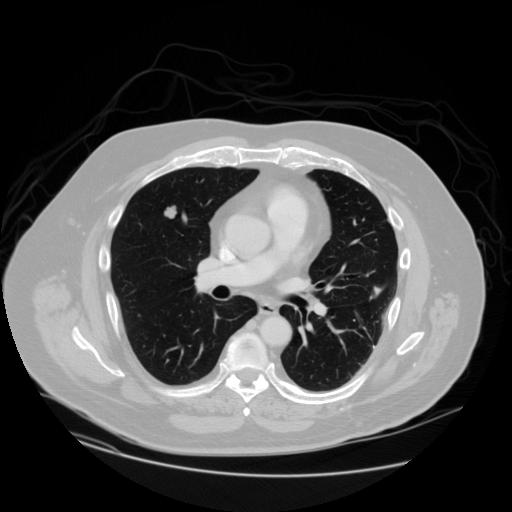nodule: (162, 203, 180, 221)
